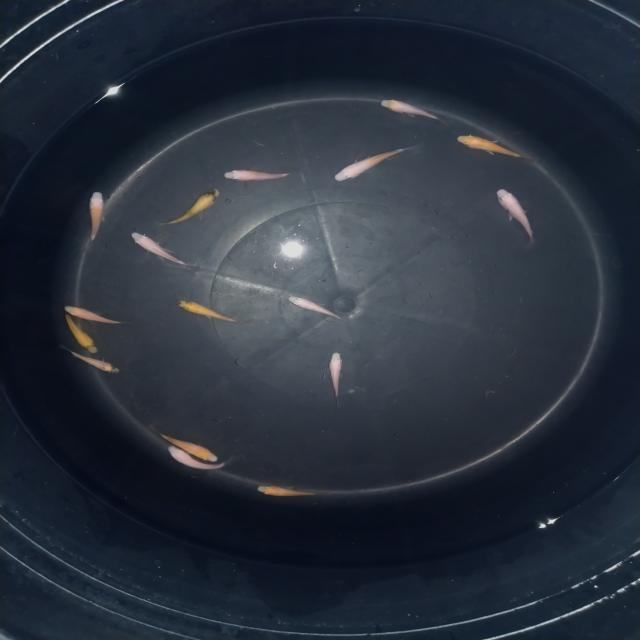nila: (328, 146, 416, 184), (493, 186, 542, 248), (152, 429, 226, 467), (124, 230, 196, 269), (155, 187, 224, 227), (54, 342, 124, 378), (166, 442, 234, 477), (454, 132, 532, 162), (172, 298, 248, 328), (374, 97, 450, 126), (60, 306, 102, 356), (59, 304, 136, 329), (246, 481, 328, 504), (282, 293, 346, 321), (79, 188, 108, 242), (215, 167, 300, 185), (324, 348, 346, 410)
